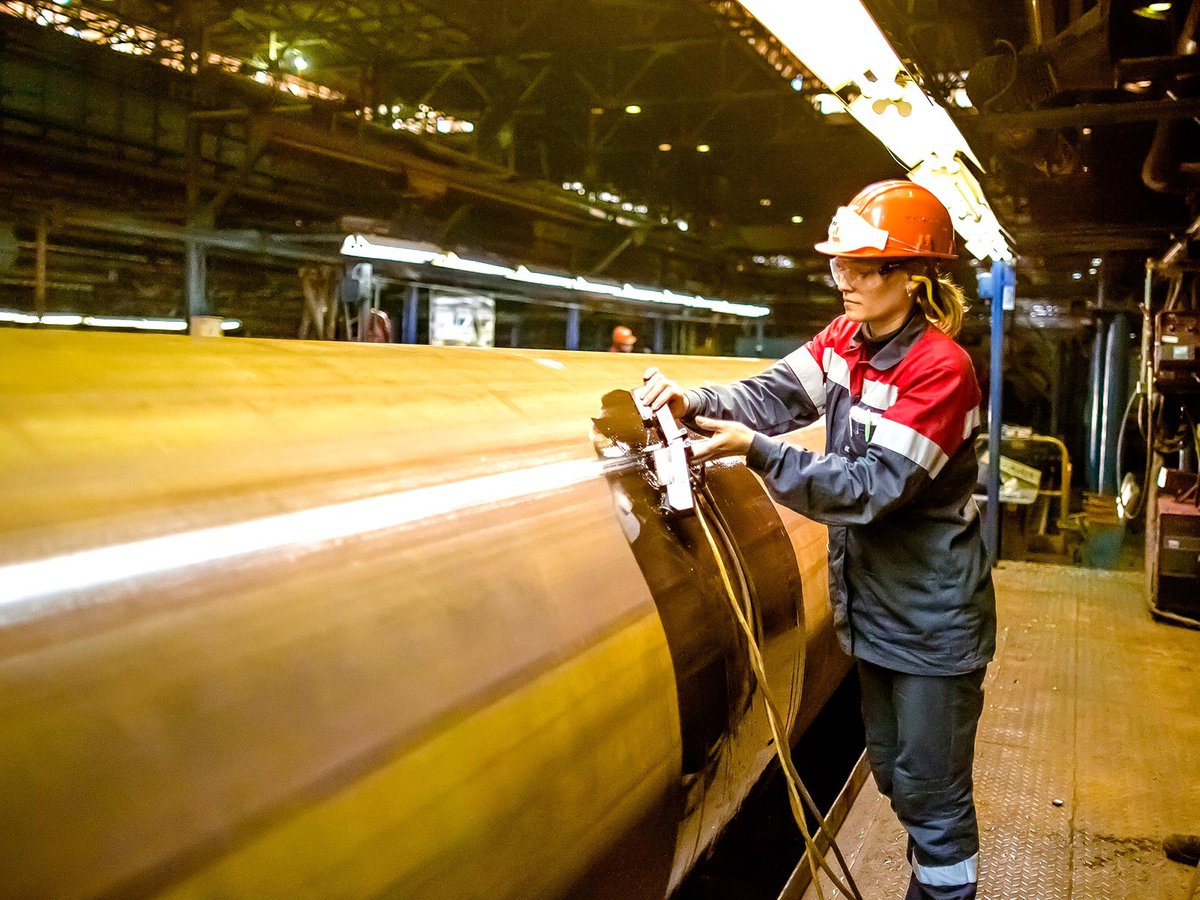person: (639, 180, 1002, 900)
